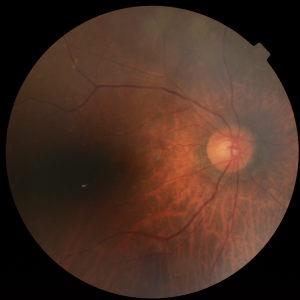healthy_eye: (52, 94, 271, 222)
